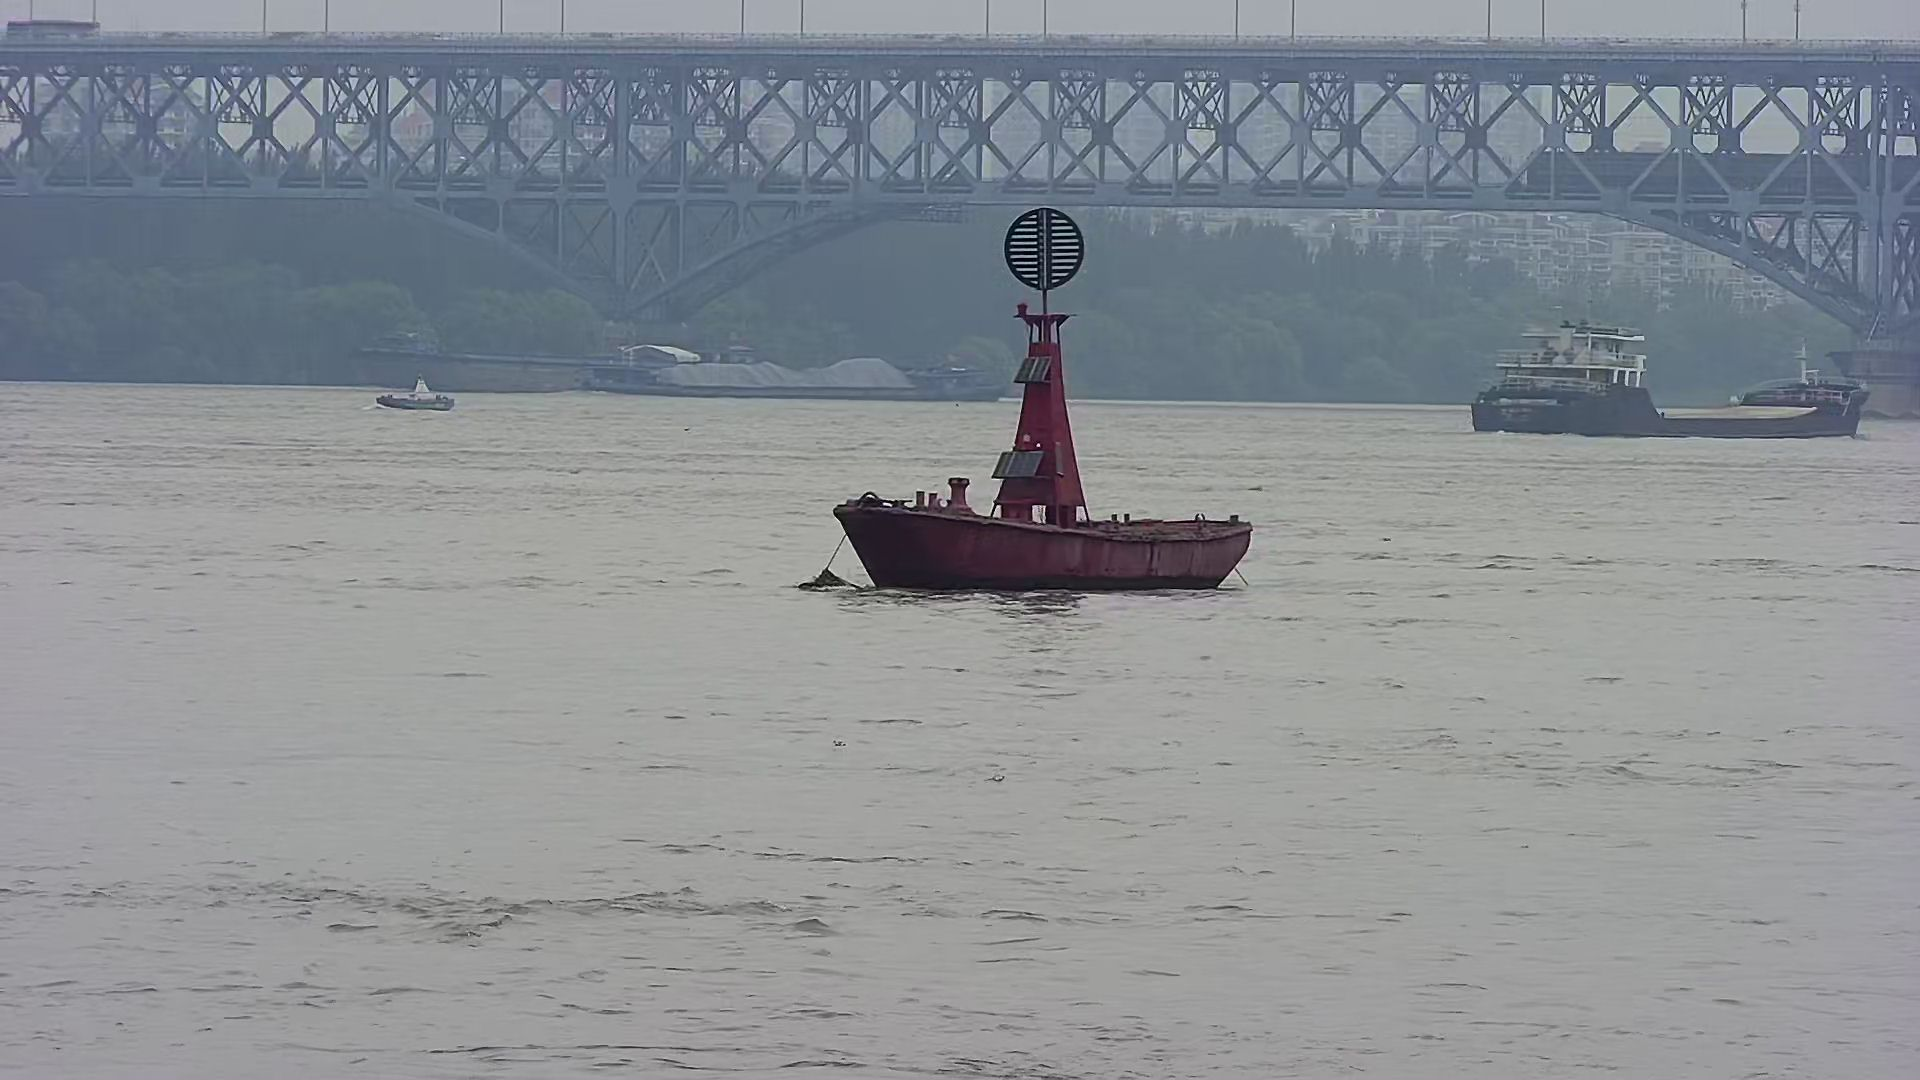boat: (787, 189, 1280, 608), (363, 376, 464, 421)
bridge: (3, 25, 1920, 422)
ship: (1451, 291, 1880, 448), (578, 342, 1007, 405)
